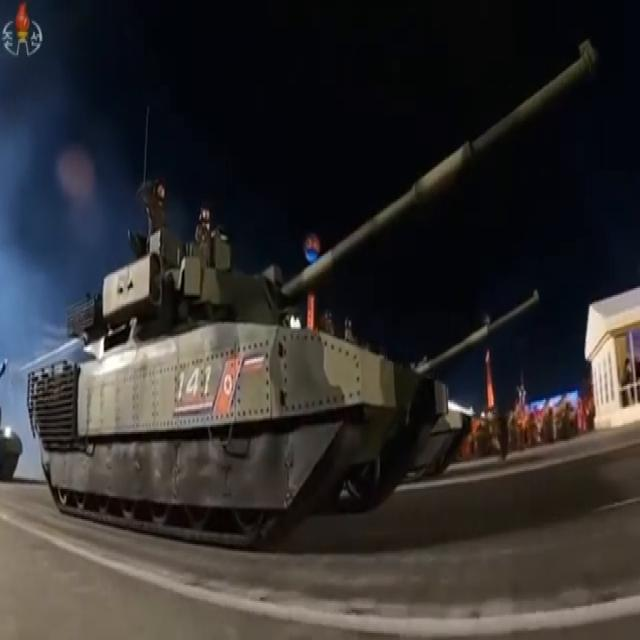north tank: (2, 38, 612, 542)
